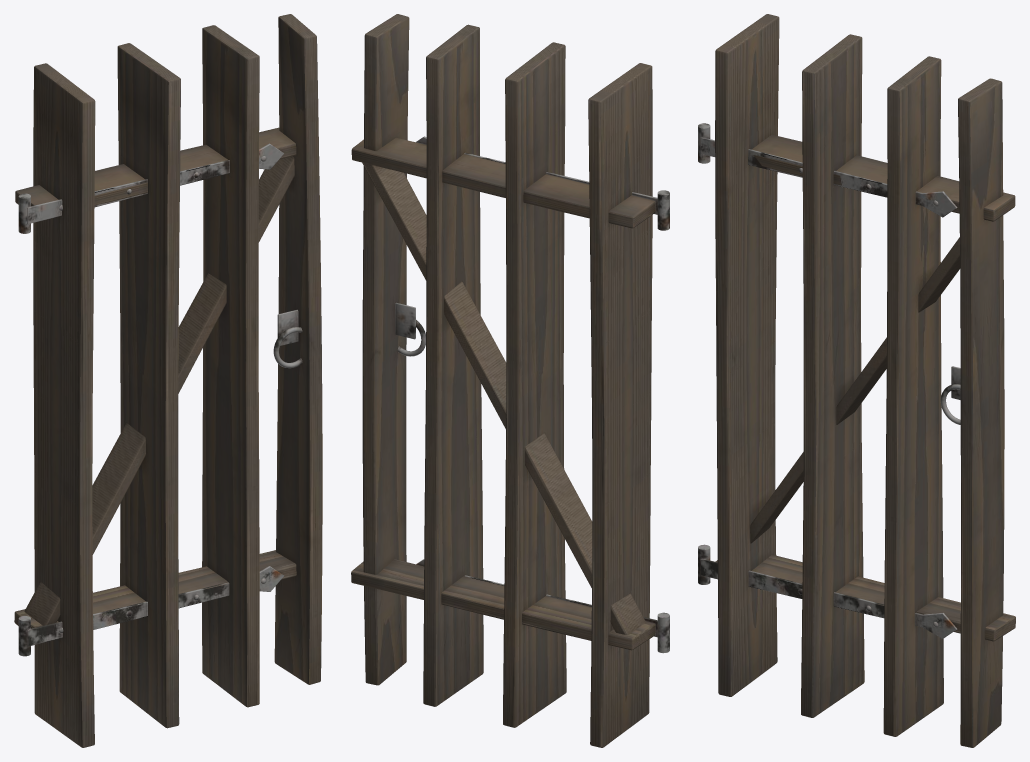
The model's file is door_plank.glb.
3 views of the same model, side by side, from view 1: azimuth 30°, elevation 25°; view 2: azimuth 150°, elevation 25°; view 3: azimuth 330°, elevation 25° (orthographic).
Parts seen in each view (by area): view 1: door_plank; view 2: door_plank; view 3: door_plank.
Boxes of the visible parts, bbox=[...] form: door_plank: bbox=[14, 14, 322, 747]; door_plank: bbox=[351, 14, 669, 747]; door_plank: bbox=[698, 14, 1015, 747].
Size of the model in its own units: 0.886 by 1.84 by 0.2623.
1 material, 1 textured.
